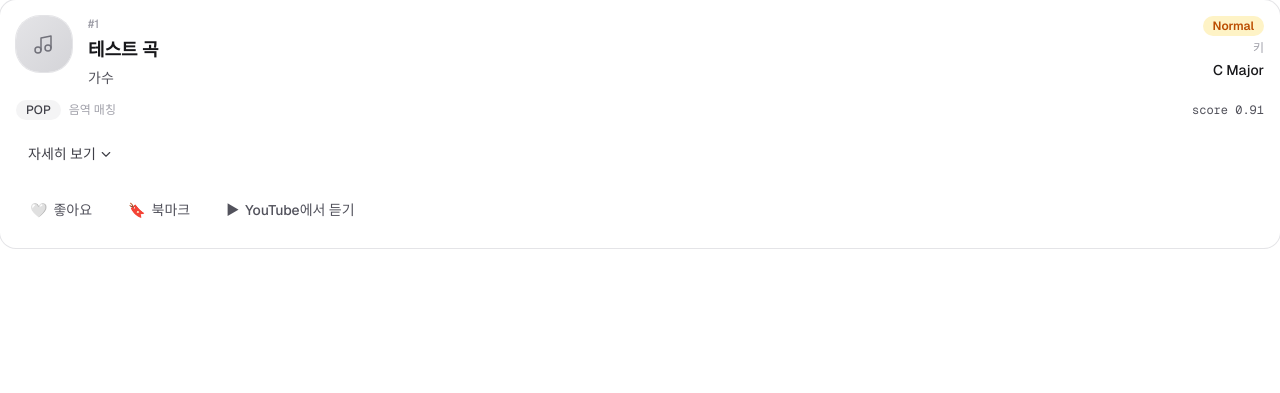
Test: SongCard › matchReason expander (closes #141) › 토글 클릭으로 aria-expanded가 false ↔ true 사이를 오간다
Click the button "자세히 보기". click: (70, 154)
box: [16, 132, 124, 176]
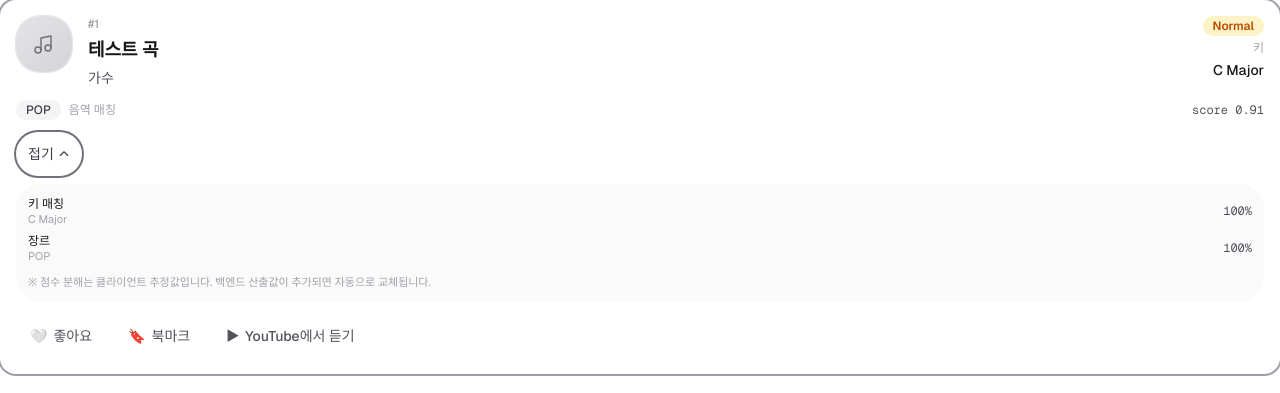
Now the button "접기" is expanded
Click the button "접기". click: (49, 154)
box: [16, 132, 82, 176]
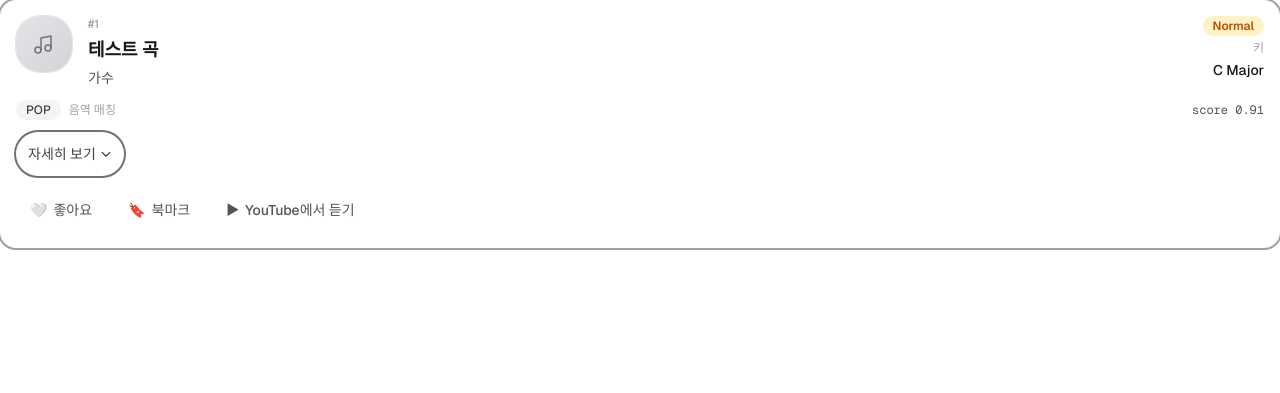
Now the button "자세히 보기" is collapsed, box [16, 132, 124, 176]
